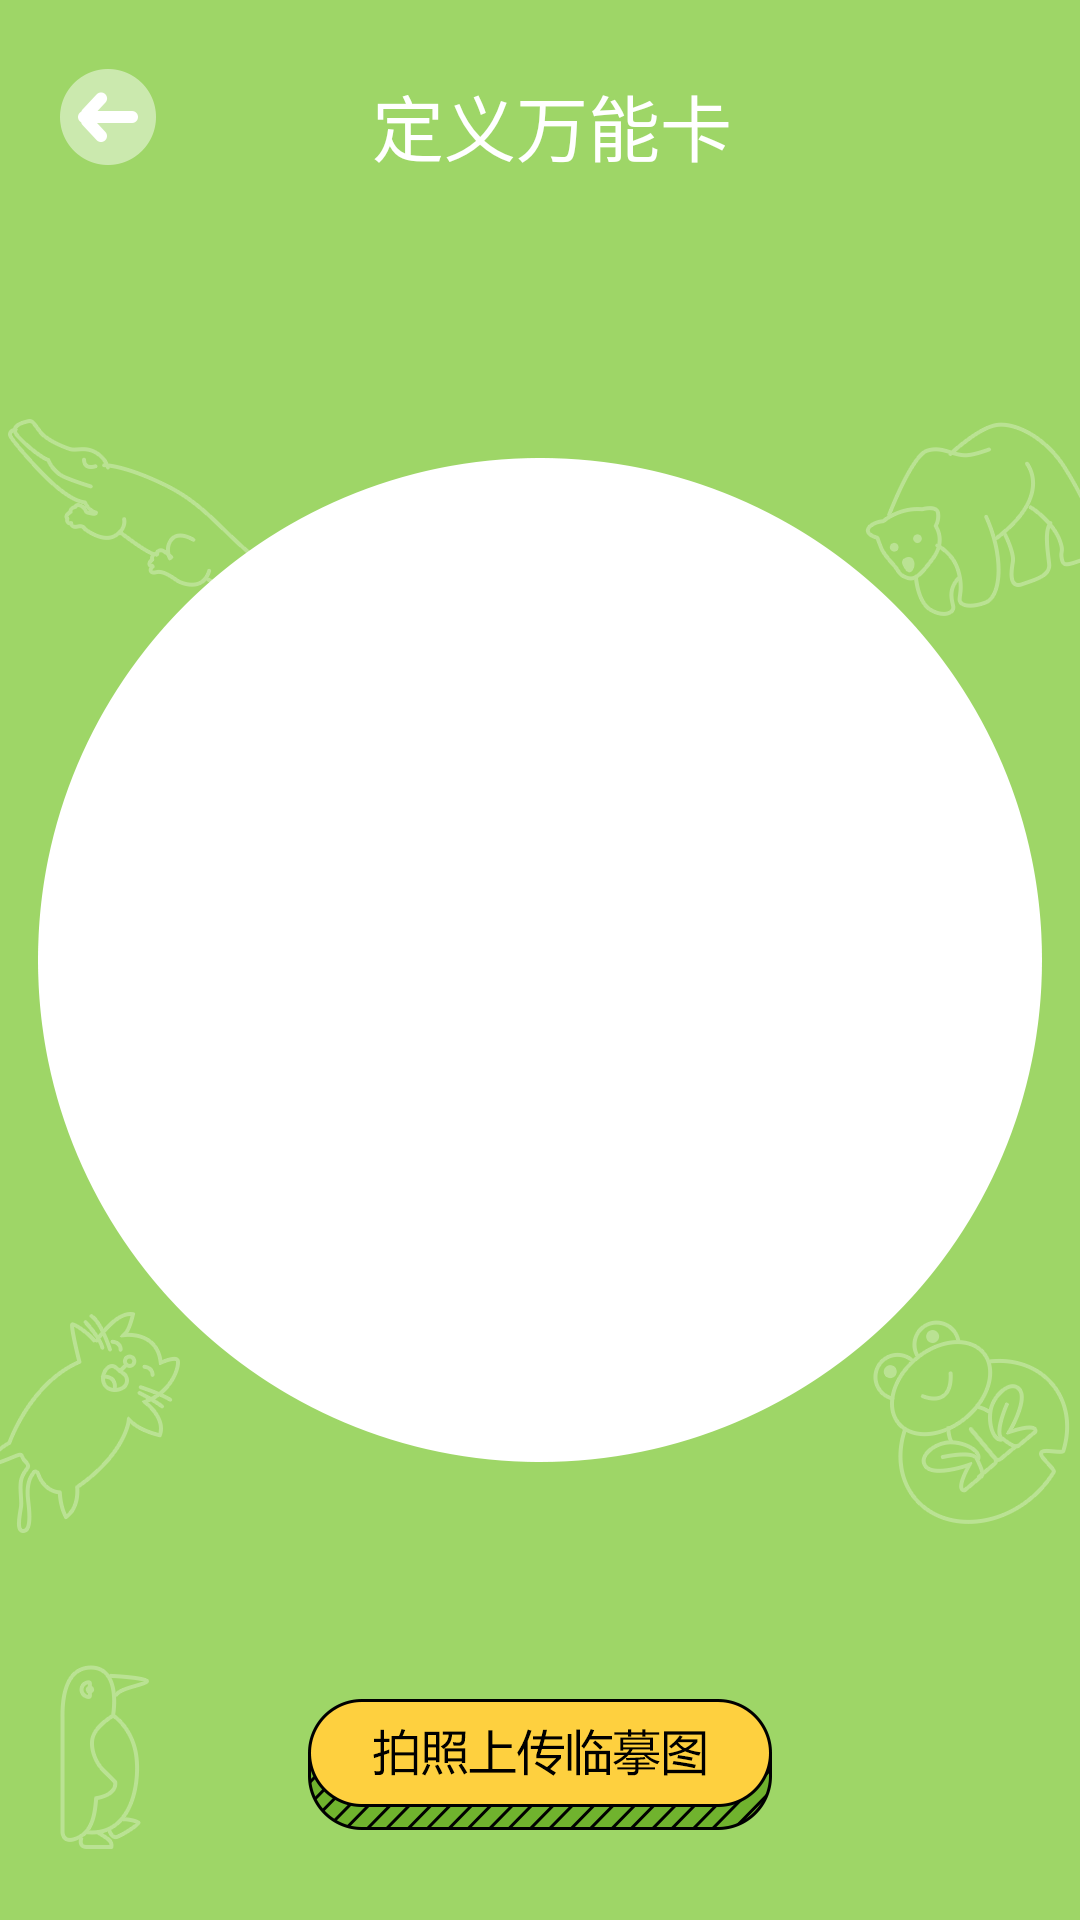

Screen size 1080×1920. Icon name, then its box in pixels as (x1, y1, x2, y2):
goback: (60, 69, 156, 165)
